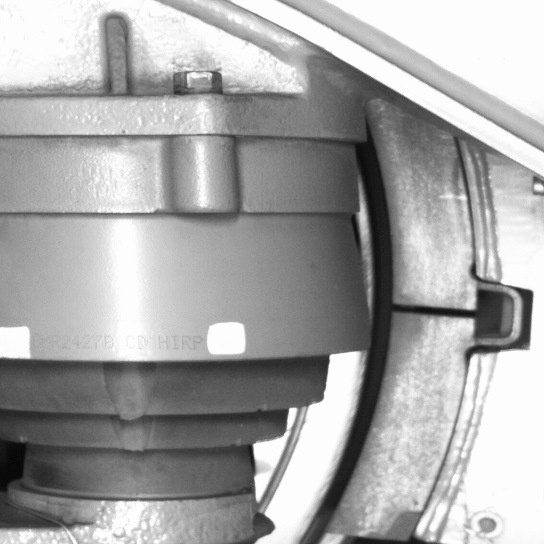KnifeSwitch: (295, 137, 496, 542)
